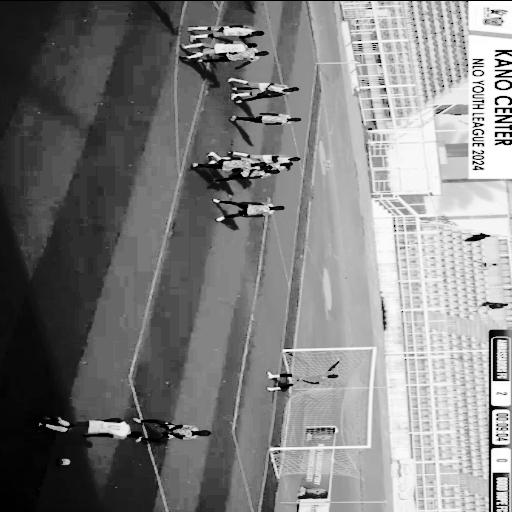ball: (52, 456, 75, 466)
keeper1: (258, 356, 354, 396)
team1: (132, 414, 225, 452), (206, 192, 286, 230), (186, 154, 270, 173), (221, 109, 305, 127), (189, 48, 271, 66), (208, 166, 280, 184)
team2: (23, 411, 147, 447), (174, 21, 275, 60), (222, 76, 292, 92), (240, 150, 302, 164)
